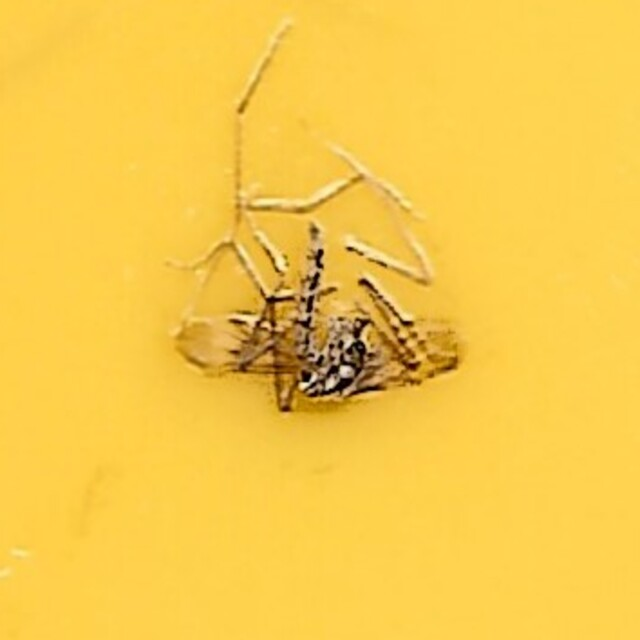Nematocera: (181, 211, 459, 429)
